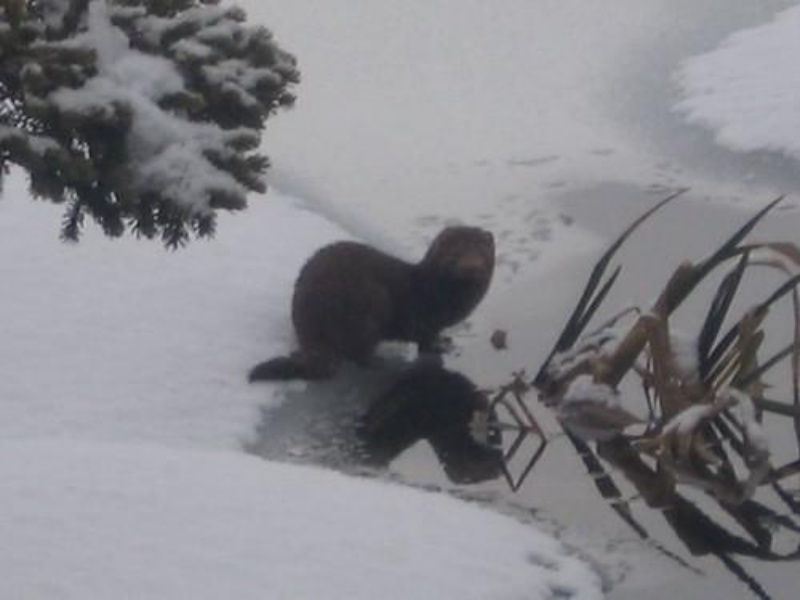minkish: (246, 224, 500, 382)
